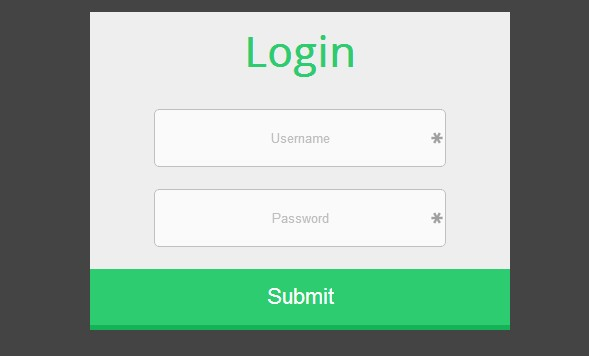_form_: (84, 1, 522, 356)
button: (87, 266, 512, 328)
field: (151, 187, 447, 250), (151, 107, 449, 169)
